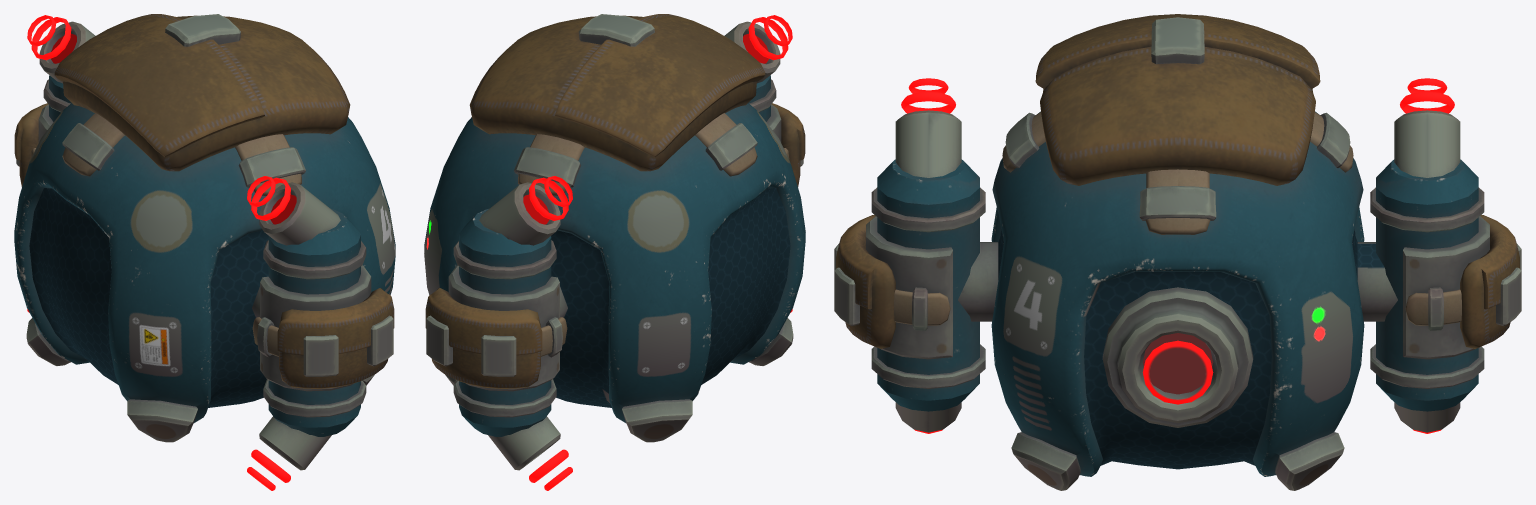
File: robot.gltf
The picture shows the model from 3 angles, left to right: view 1: azimuth 30°, elevation 25°; view 2: azimuth 150°, elevation 25°; view 3: azimuth 270°, elevation 25°; orthographic projection. The views are drawn at different scales.
Visible parts, largest first — view 1: Object_2, Object_3; view 2: Object_2, Object_3; view 3: Object_2, Object_3.
Boxes of the visible parts, bbox=[...] form: Object_2: bbox=[14, 14, 395, 470]; Object_3: bbox=[27, 15, 290, 490]; Object_2: bbox=[424, 14, 805, 470]; Object_3: bbox=[529, 15, 792, 490]; Object_2: bbox=[834, 14, 1521, 490]; Object_3: bbox=[901, 78, 1454, 433].
Size of the model in its own units: 10.89 by 12.54 by 18.26.
2 materials, 2 textured.
